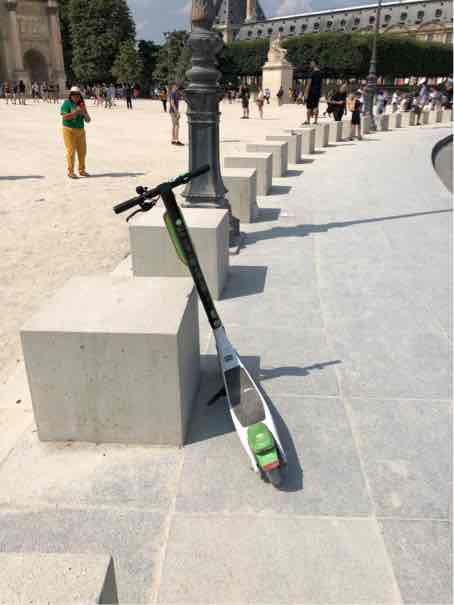scooter: (100, 155, 311, 495)
